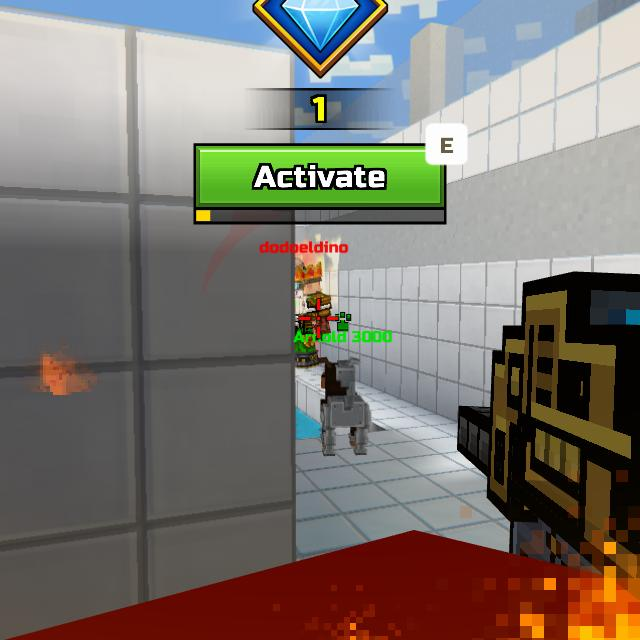Enemy: (295, 261, 332, 369)
